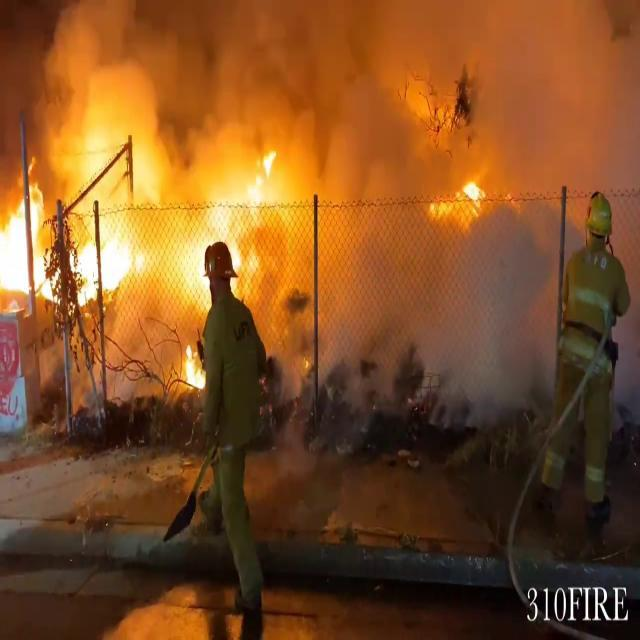Fire: (0, 168, 155, 308), (165, 141, 283, 303), (178, 338, 207, 394)
Smoke: (1, 0, 636, 404)
